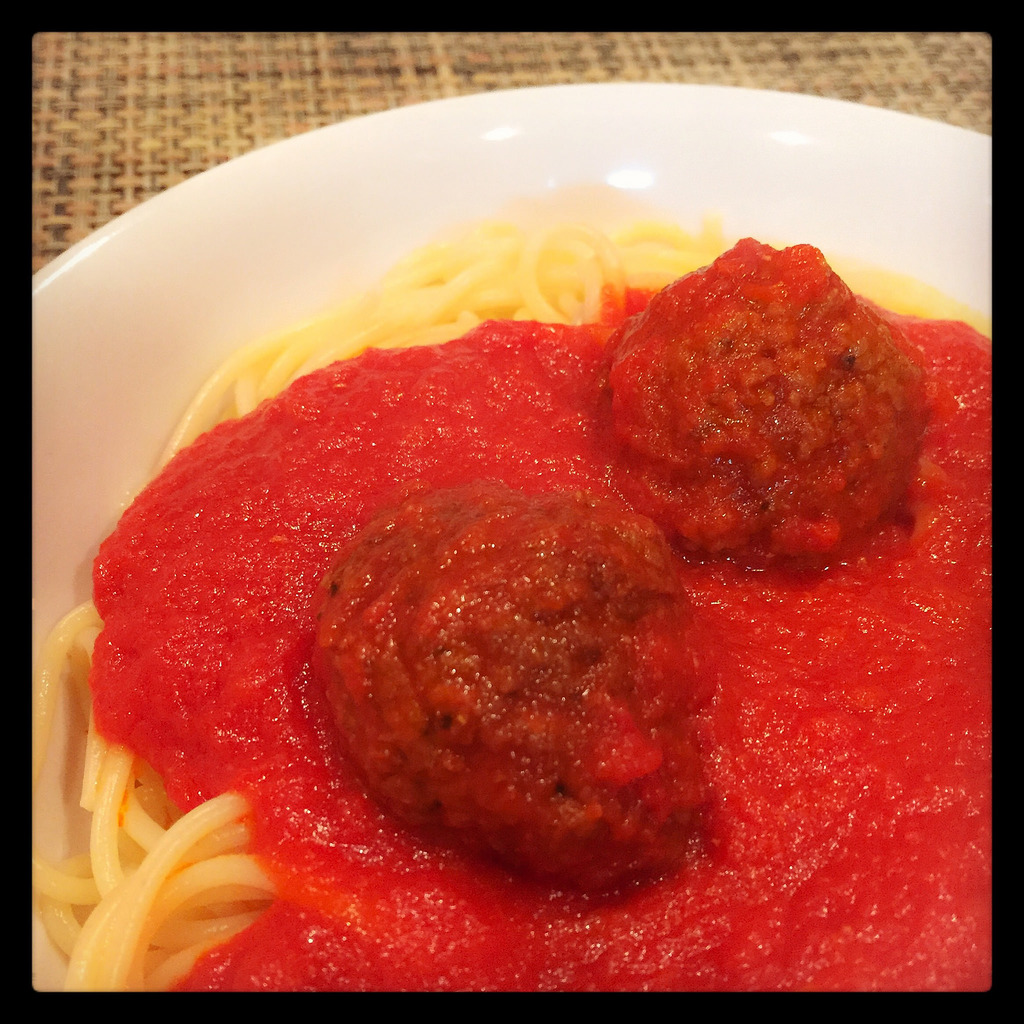meatballs: (345, 504, 711, 873), (619, 278, 891, 525)
plain spaghetti: (68, 794, 209, 942)
